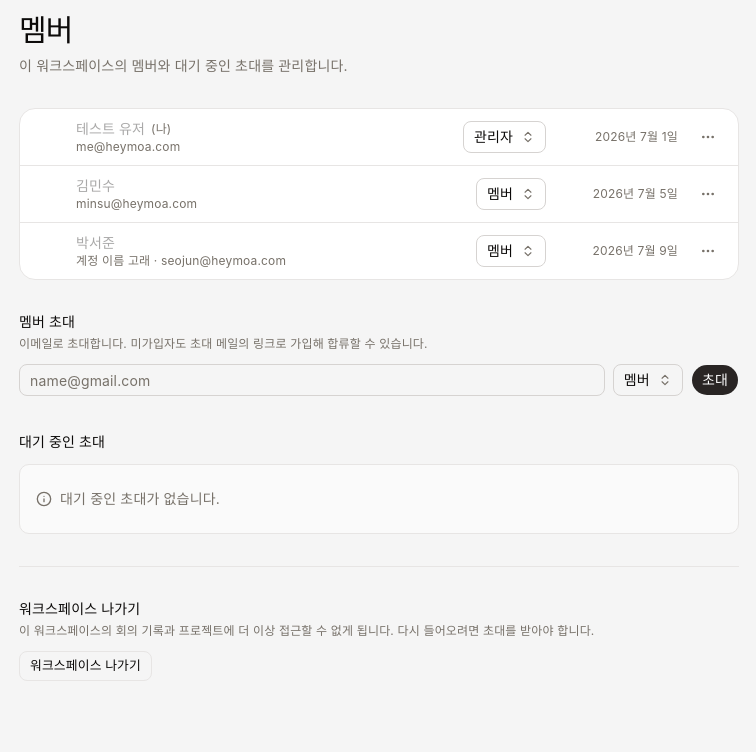
Test: MembersSettings › 이메일을 고치면 지난 초대 오류가 사라진다
The width and height of the screenshot is (756, 752).
Type "junho@heymoa.app" into the field named "초대할 이메일". click: (312, 380)
box: [19,364,605,396]
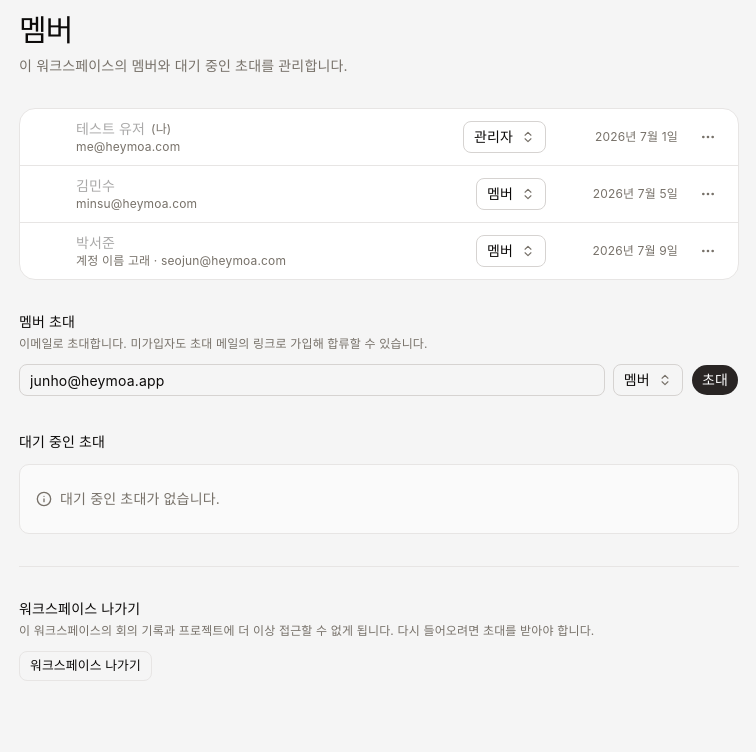
Click the button "초대". click: (715, 380)
box: [691,364,739,396]
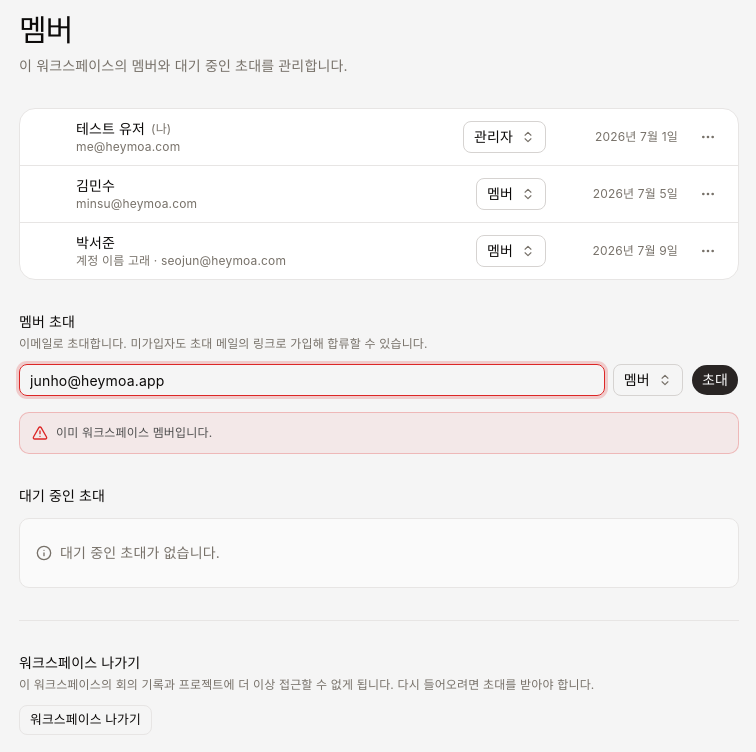
expect the text "이미 워크스페이스 멤버입니다." is shown: met, box [56,423,212,442]
Replace the text in the field named "초대할 이메일" with "junho2@heymoa.app". click: (312, 380)
box: [19,364,605,396]
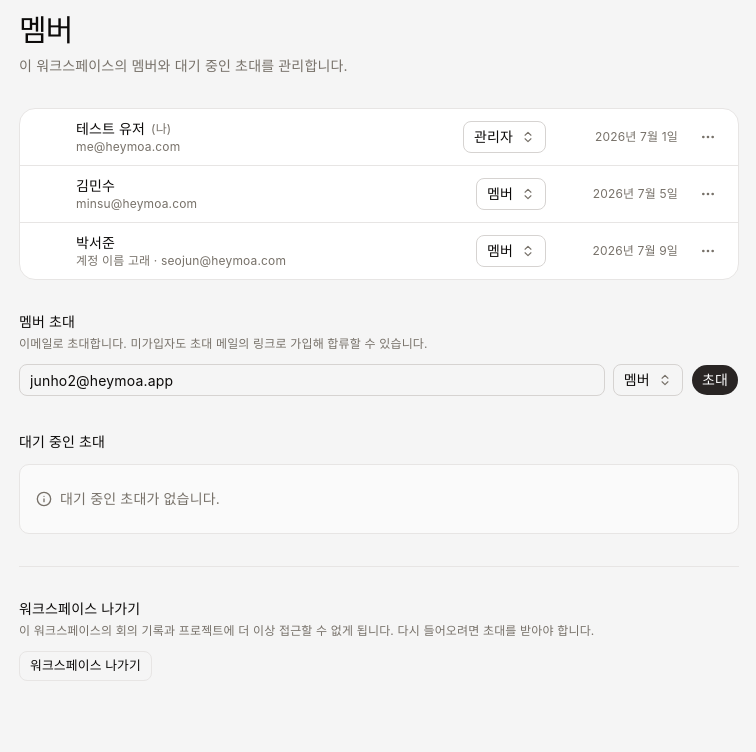
expect the text "이미 워크스페이스 멤버입니다." is gone: met
